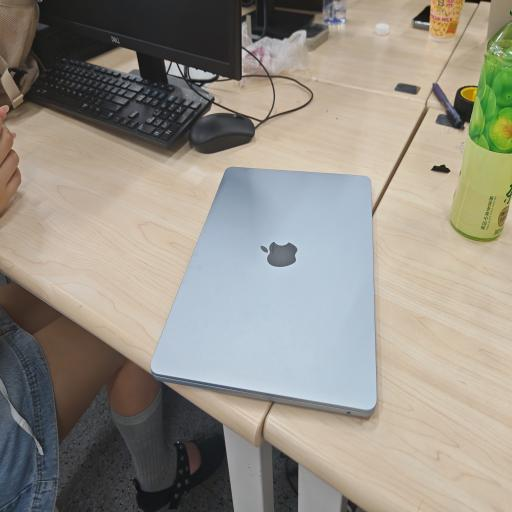laptop: (152, 168, 376, 416)
mouse: (189, 113, 255, 153)
